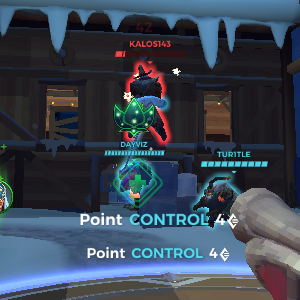model: (118, 62, 165, 145)
